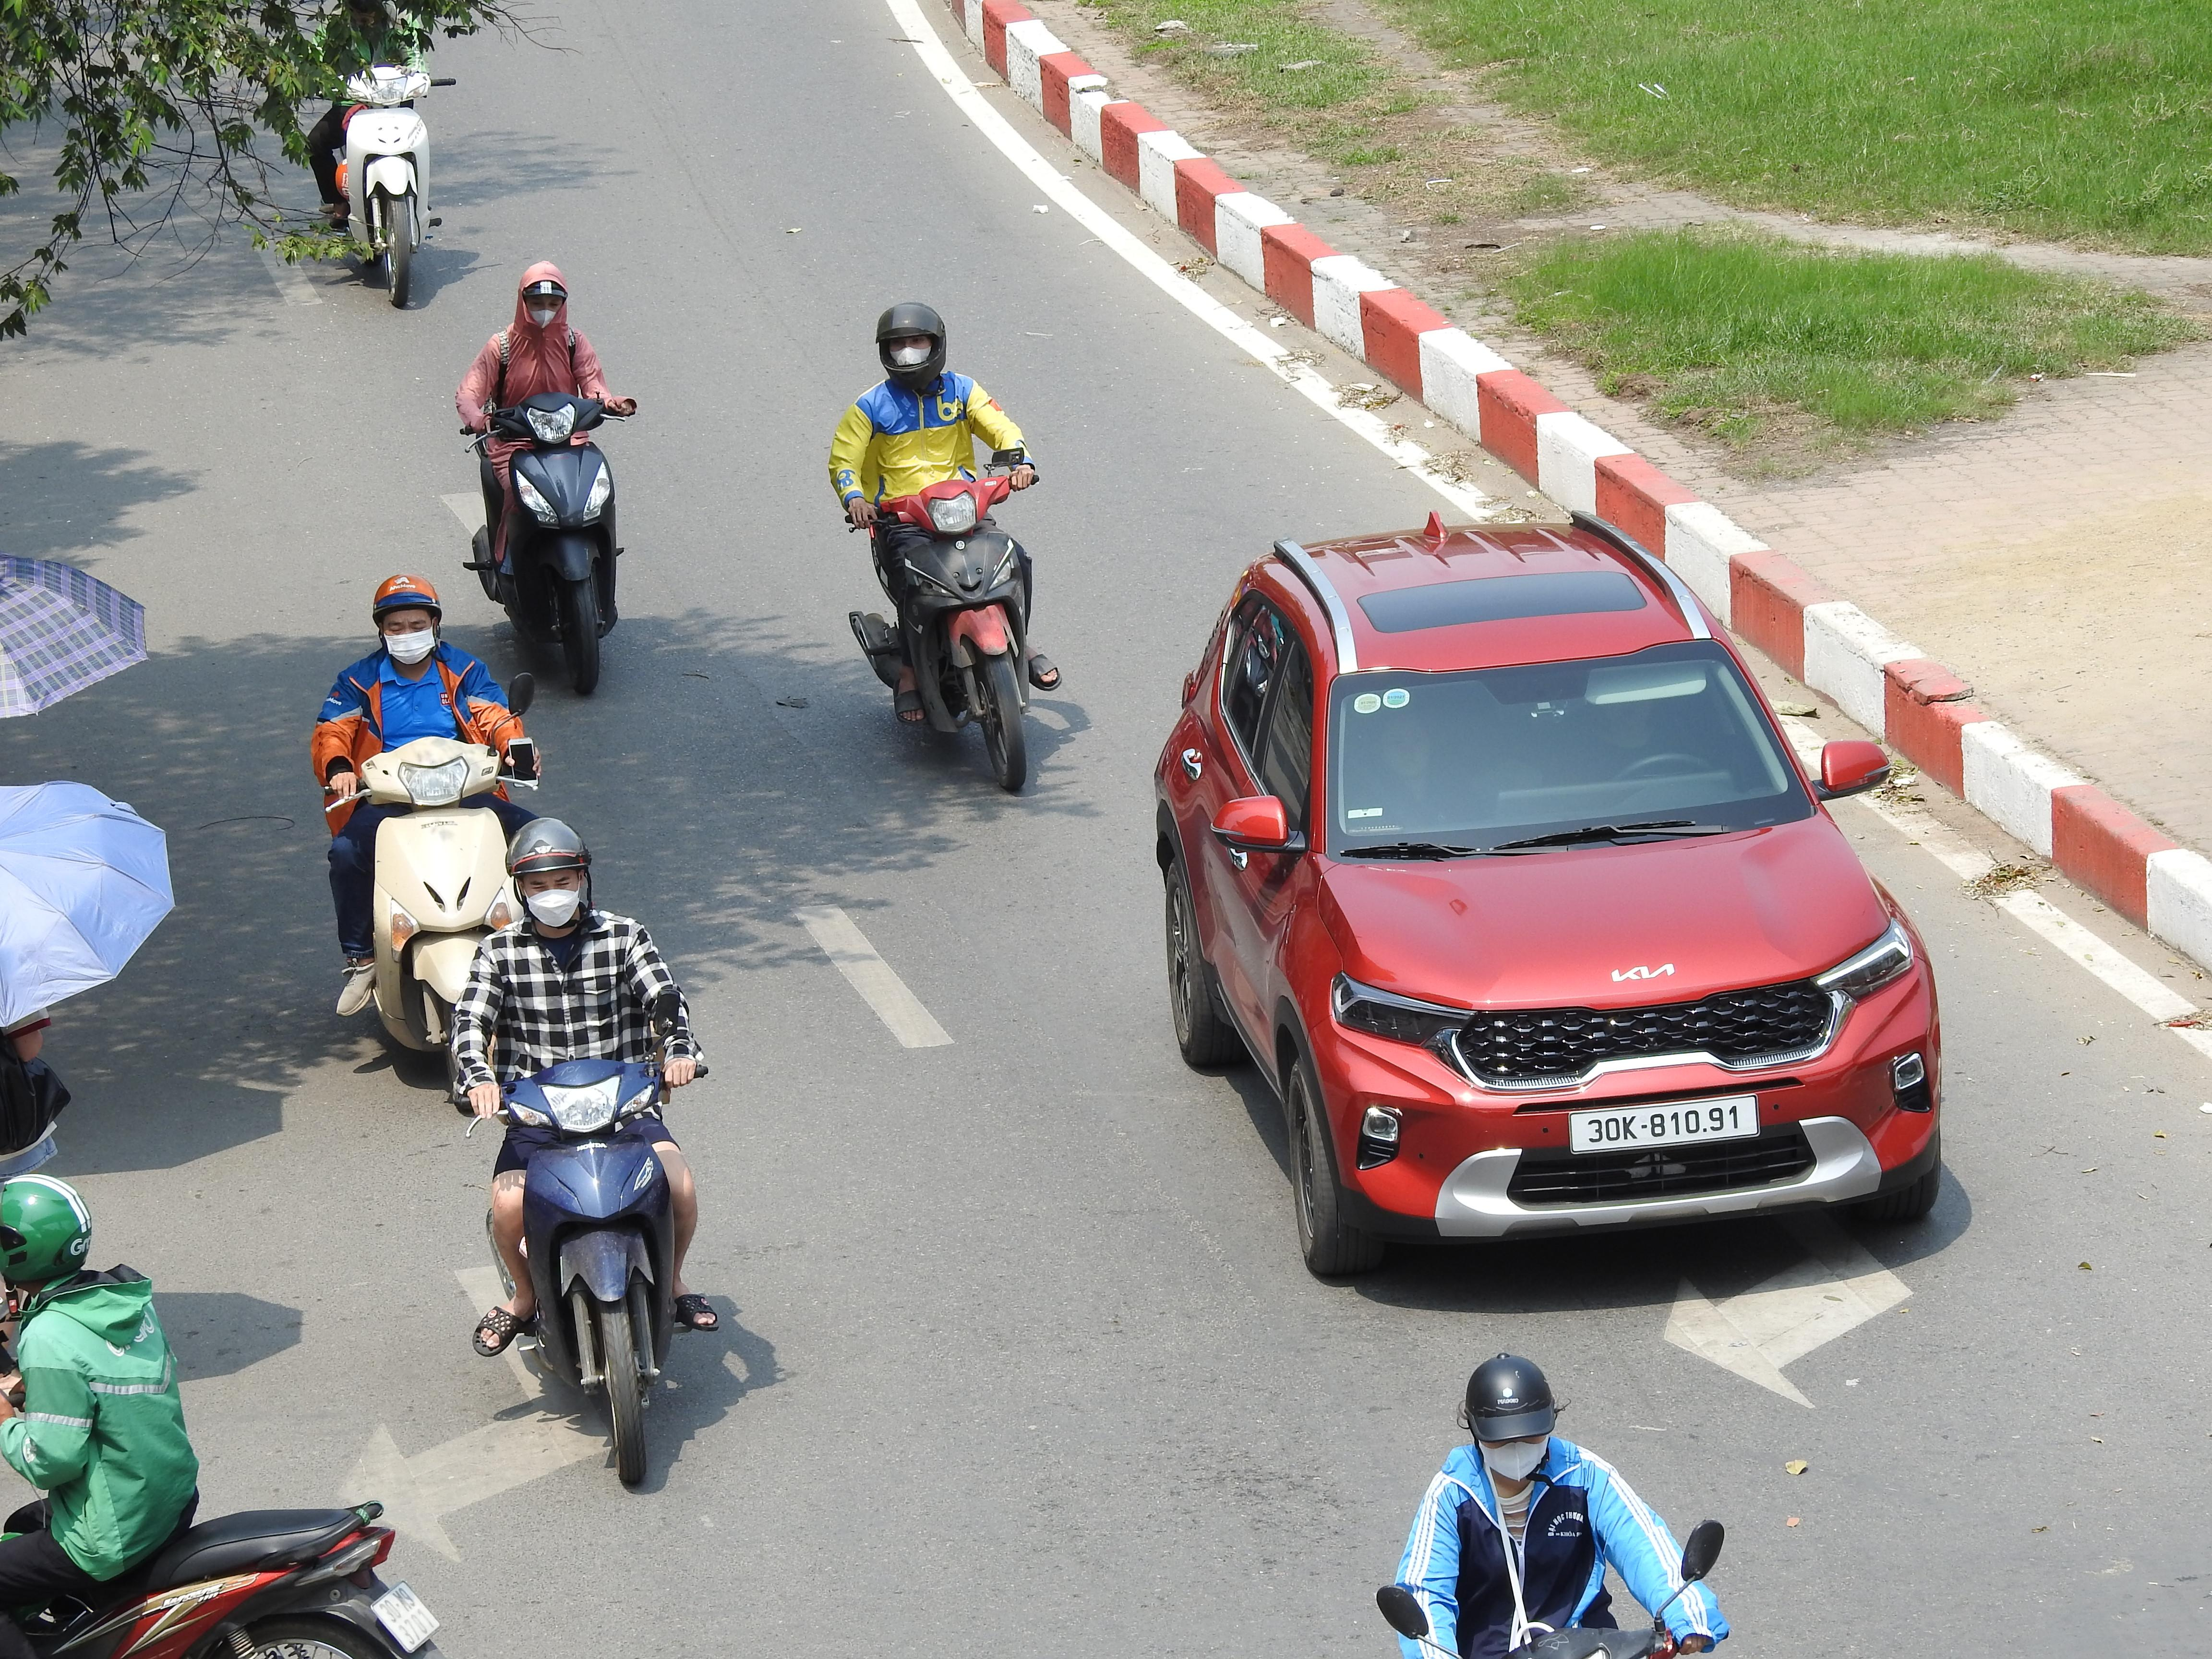BSD: (1568, 1089, 1761, 1155)
BSV: (371, 1581, 441, 1657)
car: (1146, 511, 1947, 1279)
motorbike: (0, 1171, 441, 1659), (449, 816, 716, 1493), (315, 572, 540, 1079), (833, 300, 1061, 796), (1378, 1354, 1730, 1659), (460, 260, 636, 701), (310, 21, 448, 310)
